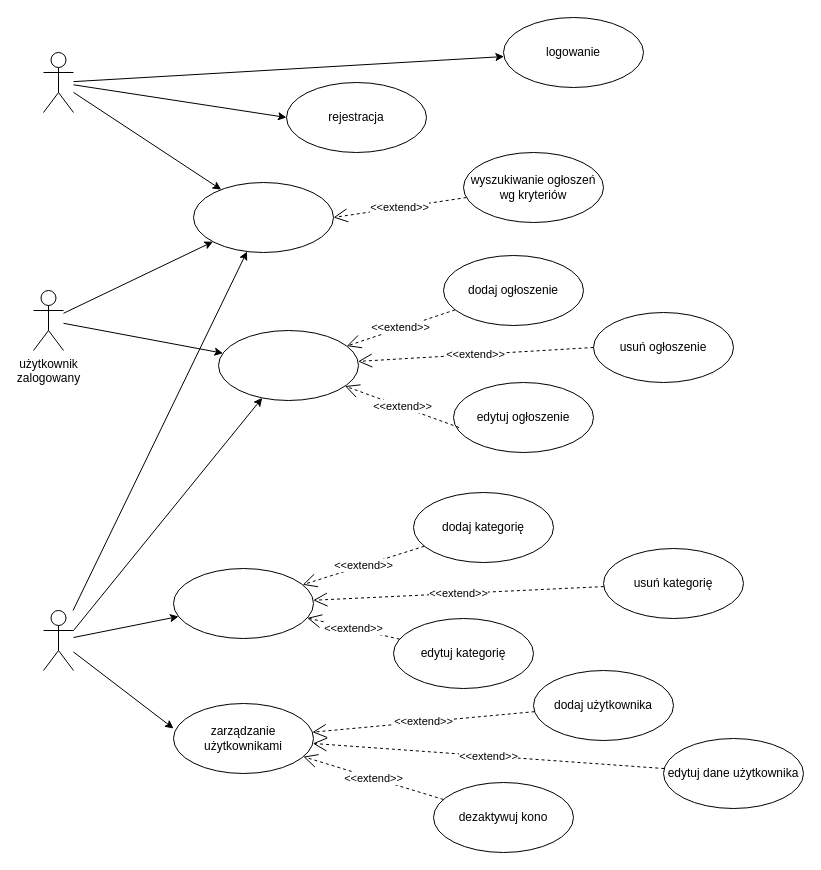
The diagram is 821 pixels wide and 870 high, and some of its shapes have lost their labels. Here are the shapes that lost their labels. From the top down, the centre of each, then its label:
At pixel 58 82: "użytkownik niezalogowany".
At pixel 263 217: "przeglądanie wszystkich ogłoszeń".
At pixel 288 365: "zarządzanie ogłoszeniami".
At pixel 243 603: "zarządzanie kategoriami".
At pixel 58 640: "administrator".
